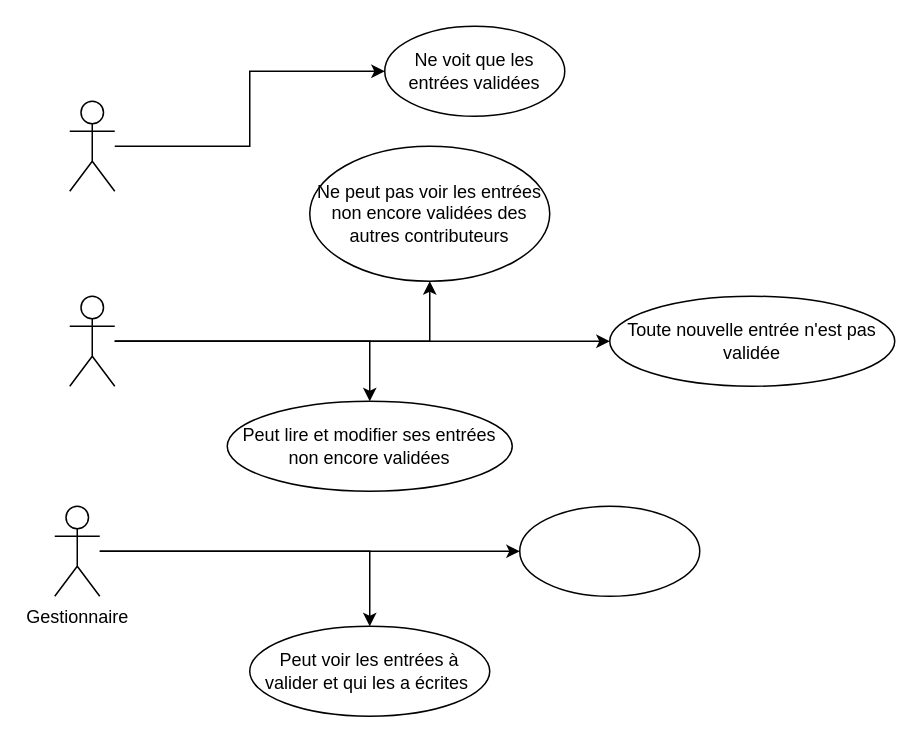
Image size: 921x743. Some labels were removed from this diagram. The shapes that lost their labels are listed below. From the top down, each one's centre as x and y in pixels, then its label:
At (91,145): "Visiteur, Lecteur".
At (91,340): "Contributeur".
At (609,550): "Toute nouvelle entrée est déjà validée.".
